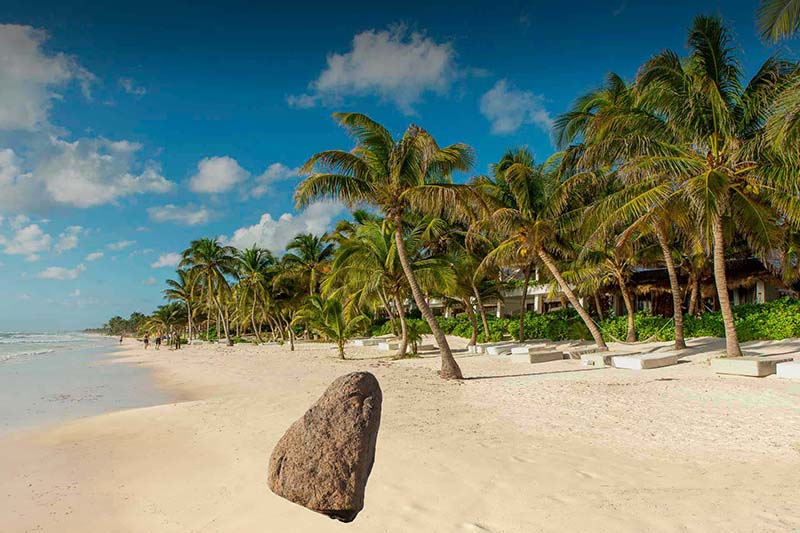Rocks: (254, 367, 391, 524)
